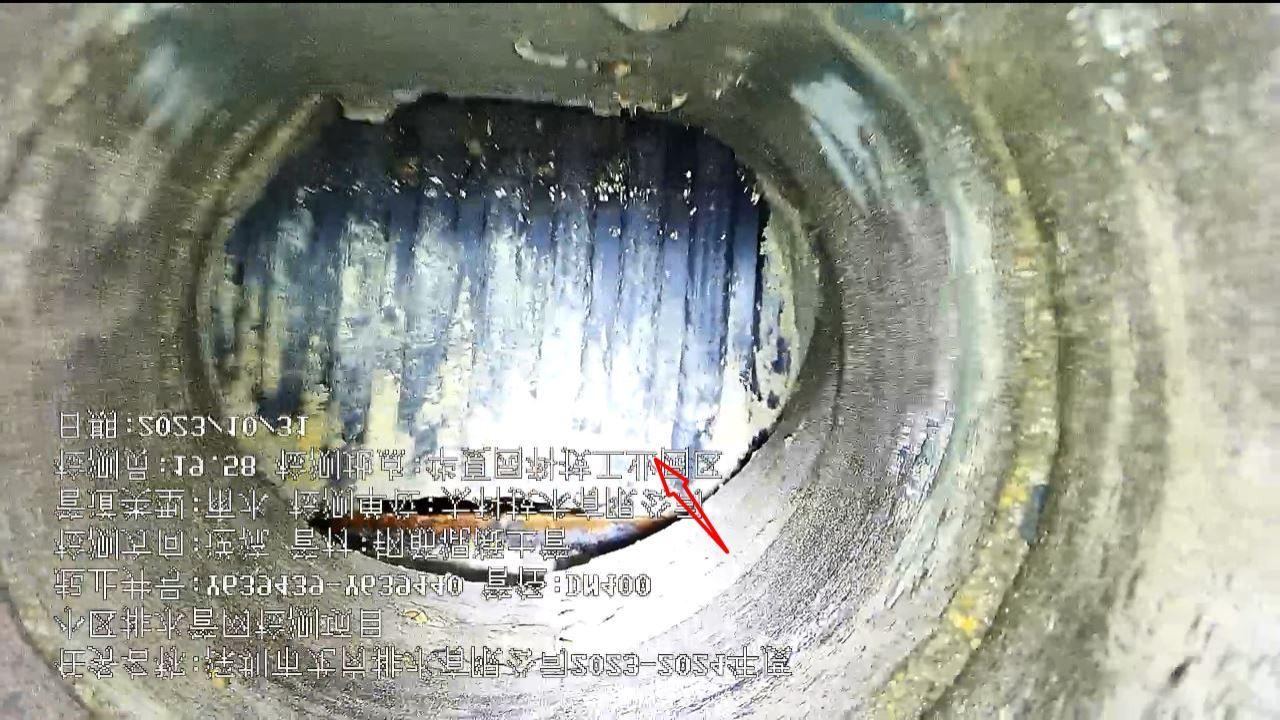YWCR: (201, 95, 806, 512)
